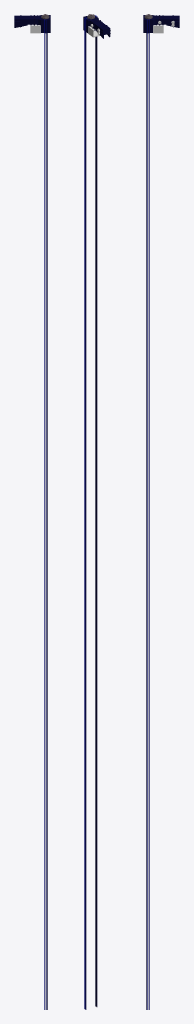
File: GearChamber.fbx
3 views of the same model, side by side, from view 1: azimuth 90°, elevation 25°; view 2: azimuth 210°, elevation 25°; view 3: azimuth 270°, elevation 25° (orthographic).
Visible parts, largest first — view 1: Cube.002; view 2: Cube.002; view 3: Cube.002.
Part boxes in pixels (box(x1,y1,x2,y2)): Cube.002: box(14, 14, 50, 1009); Cube.002: box(83, 14, 110, 1009); Cube.002: box(143, 14, 179, 1009).
Size of the model in its own units: 23000 by 1824349 by 61016.
